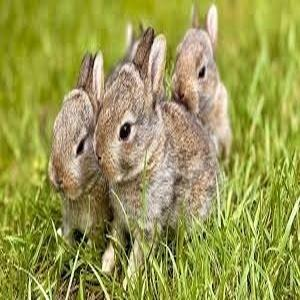rabbit: (47, 3, 234, 280)
